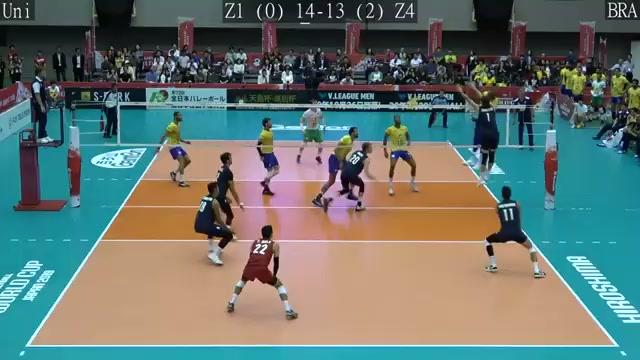ball: (406, 96, 419, 116)
